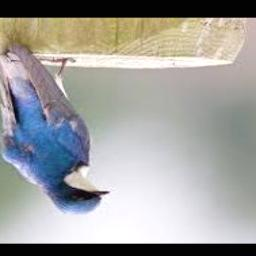Swallow: (0, 43, 108, 215)
